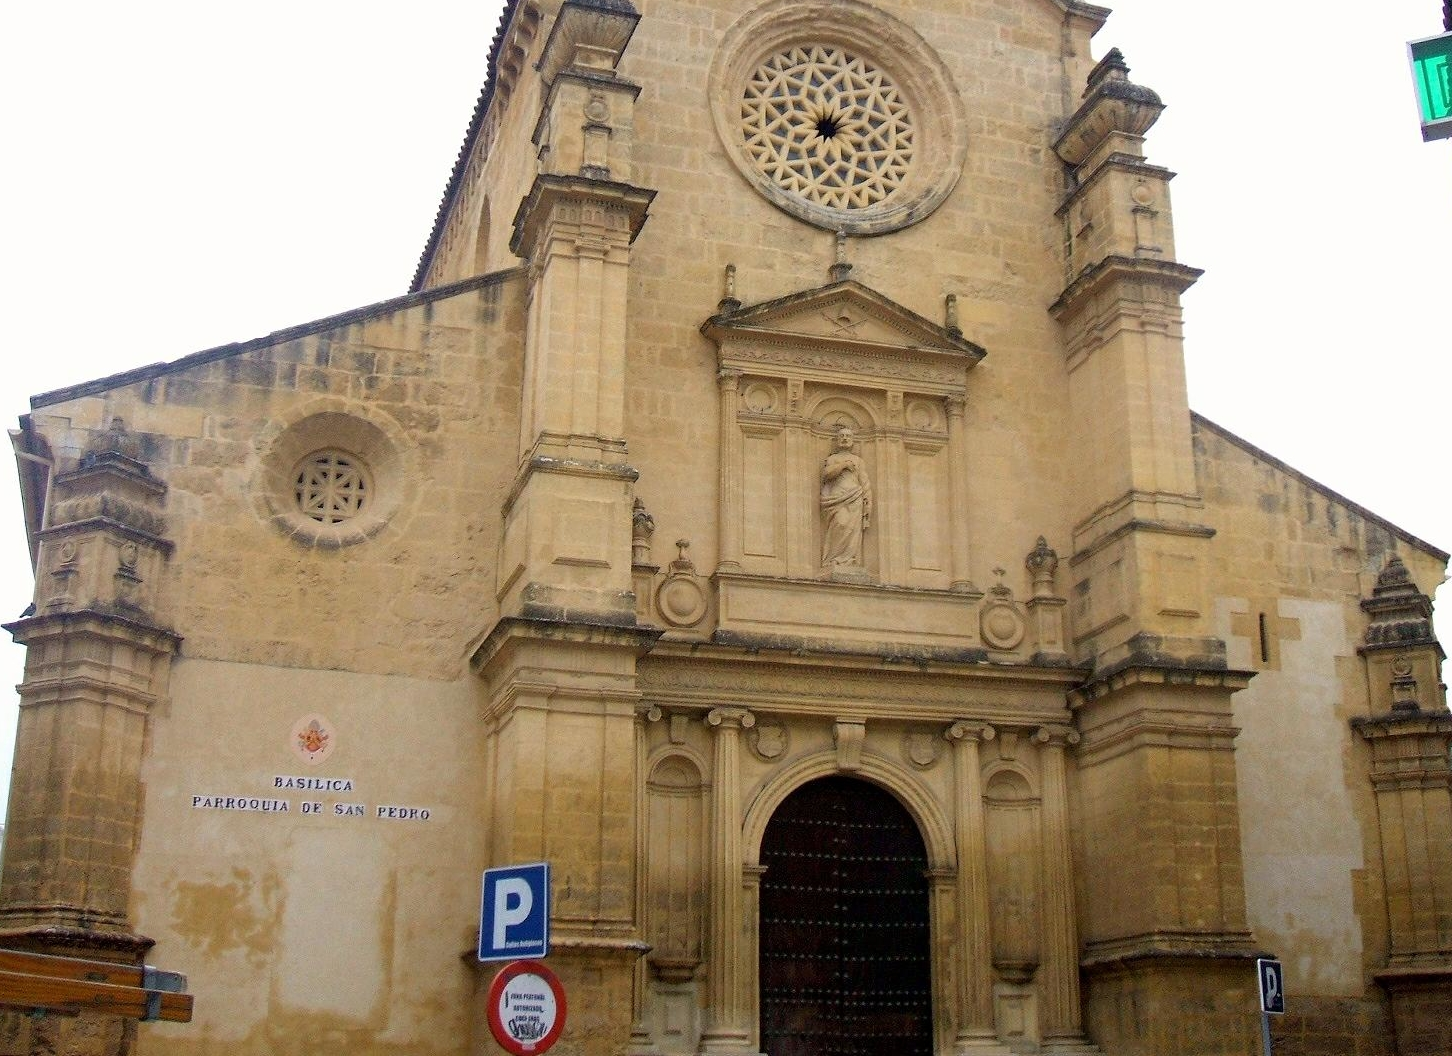arco-medio-punto: (740, 747, 960, 890)
fronton: (700, 278, 992, 366)
serliana: (724, 387, 951, 570)
